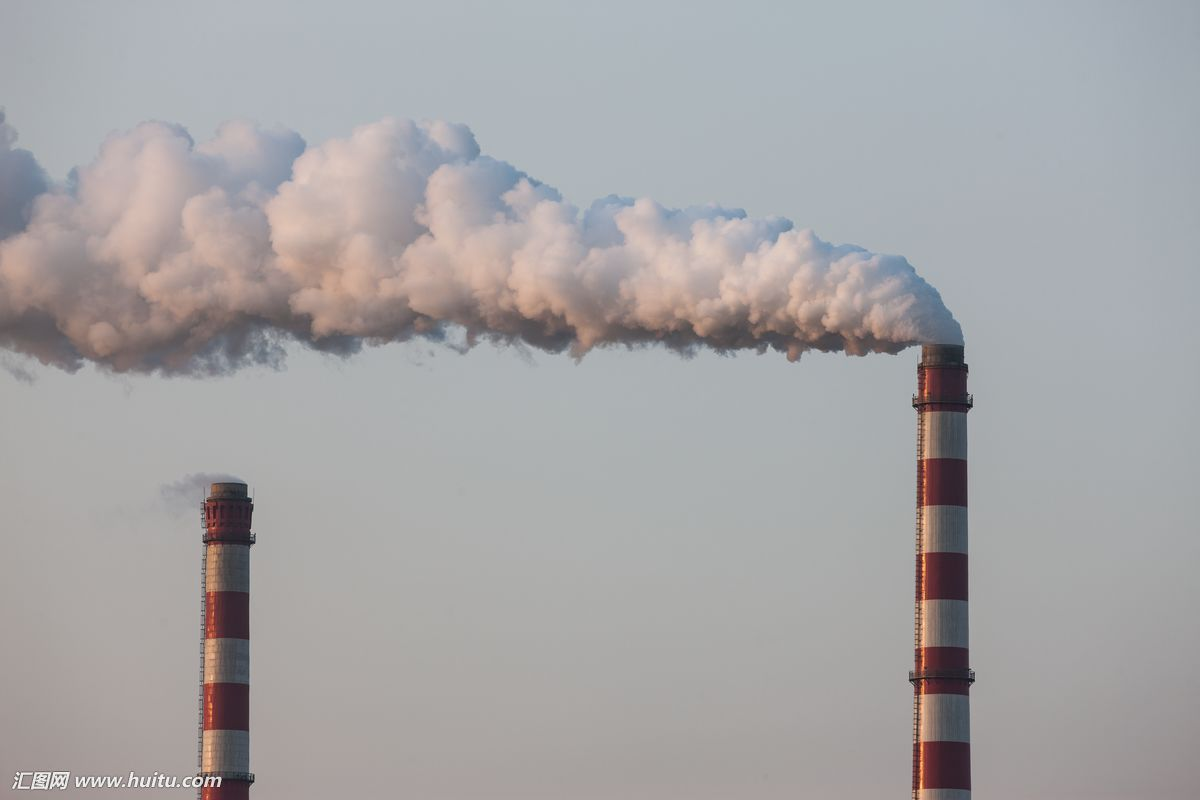dust: (325, 123, 983, 361)
